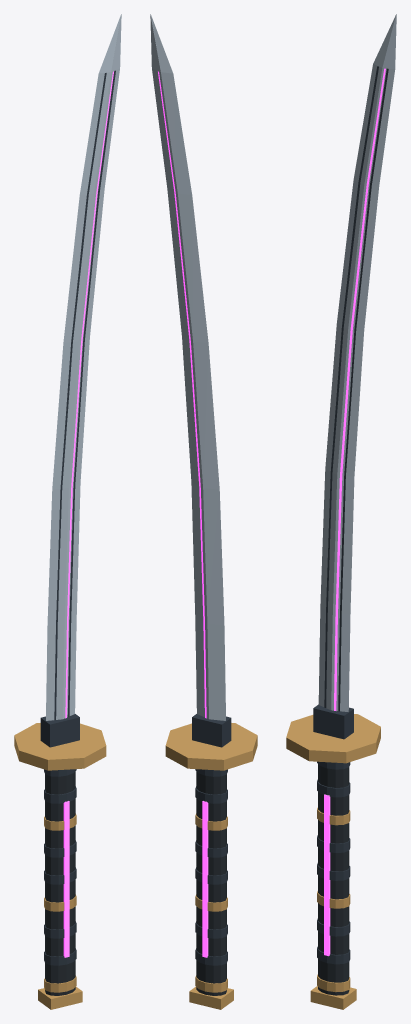
The model's file is void_ronin_katana.glb.
3 views of the same model, side by side, from view 1: azimuth 30°, elevation 25°; view 2: azimuth 150°, elevation 25°; view 3: azimuth 330°, elevation 25° (orthographic). The views are drawn at different scales.
Parts seen in each view (by area): view 1: Forged beveled blade, Grip core, Spine1, Octagonal tsuba, Energy channel1, Habaki, Grip inlay 1, Grip collar -0.135, Grip wrap 00, Grip wrap 07, Grip wrap 01, Grip wrap 06 (+4 smaller); view 2: Forged beveled blade, Grip core, Octagonal tsuba, Energy channel-1, Habaki, Grip inlay -1, Grip collar -0.135, Grip wrap 00, Grip wrap 07, Grip wrap 01, Grip wrap 06, Grip wrap 04 (+3 smaller); view 3: Forged beveled blade, Grip core, Spine1, Octagonal tsuba, Energy channel1, Habaki, Grip inlay 1, Grip collar -0.135, Grip wrap 00, Grip wrap 07, Grip wrap 01, Grip wrap 06 (+4 smaller).
Part boxes in pixels (bbox=[...]): Forged beveled blade: bbox=[46, 14, 121, 720]; Grip core: bbox=[45, 771, 75, 995]; Spine1: bbox=[54, 70, 115, 720]; Octagonal tsuba: bbox=[14, 723, 106, 770]; Energy channel1: bbox=[65, 71, 113, 718]; Habaki: bbox=[40, 714, 79, 747]; Grip inlay 1: bbox=[63, 801, 69, 957]; Grip collar -0.135: bbox=[38, 986, 82, 1009]; Grip wrap 00: bbox=[44, 975, 76, 992]; Grip wrap 07: bbox=[44, 786, 76, 803]; Grip wrap 01: bbox=[44, 948, 76, 965]; Grip wrap 06: bbox=[44, 813, 76, 830]; Forged beveled blade: bbox=[150, 14, 225, 720]; Grip core: bbox=[196, 771, 226, 995]; Octagonal tsuba: bbox=[165, 723, 257, 770]; Energy channel-1: bbox=[158, 71, 206, 718]; Habaki: bbox=[192, 714, 231, 747]; Grip inlay -1: bbox=[202, 801, 208, 957]; Grip collar -0.135: bbox=[189, 986, 233, 1009]; Grip wrap 00: bbox=[195, 975, 227, 992]; Grip wrap 07: bbox=[195, 786, 227, 803]; Grip wrap 01: bbox=[195, 948, 227, 965]; Grip wrap 06: bbox=[195, 813, 227, 830]; Grip wrap 04: bbox=[195, 867, 227, 884]; Forged beveled blade: bbox=[318, 14, 396, 711]; Grip core: bbox=[318, 764, 349, 995]; Spine1: bbox=[324, 66, 388, 711]; Octagonal tsuba: bbox=[286, 714, 380, 763]; Energy channel1: bbox=[334, 68, 385, 710]; Habaki: bbox=[313, 704, 353, 739]; Grip inlay 1: bbox=[324, 794, 330, 956]; Grip collar -0.135: bbox=[310, 986, 356, 1009]; Grip wrap 00: bbox=[317, 974, 350, 992]; Grip wrap 07: bbox=[317, 779, 350, 797]; Grip wrap 01: bbox=[317, 946, 350, 964]; Grip wrap 06: bbox=[317, 807, 350, 825].
Bounding box in the file's own units: 0.1192 × 1.08 × 0.096.
